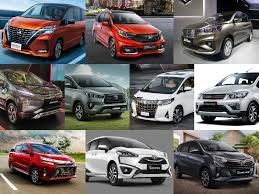mobil: (3, 2, 84, 61), (175, 138, 255, 189), (87, 137, 172, 185), (93, 9, 167, 62), (197, 70, 259, 126), (178, 12, 255, 57), (133, 69, 193, 125), (9, 143, 77, 185), (66, 74, 126, 121)
